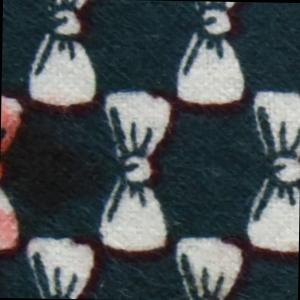Stain: (1, 86, 113, 261)
